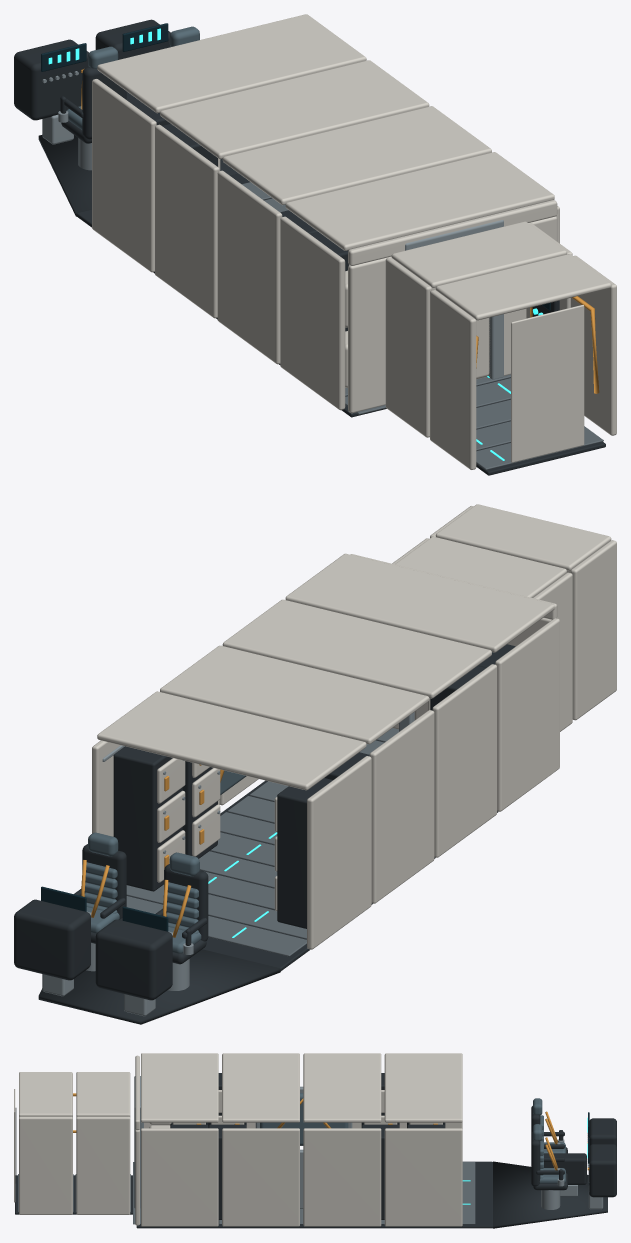
The model's file is spacecraft-interior-lod0.glb.
The picture shows the model from 3 angles, top to bottom: view 1: azimuth 30°, elevation 25°; view 2: azimuth 150°, elevation 25°; view 3: azimuth 270°, elevation 25°; orthographic projection. The views are drawn at different scales.
Visible parts, largest first — view 1: Ceiling_Interior_Ceramic, Walls_Interior_Ceramic, Furniture_Interior_Graphite, Door_Outer_Liner, Furniture_Interior_Ceramic, Furniture_Interior_Floor, Furniture_Interior_Titanium, Furniture_Interior_Display, Furniture_Interior_Cushion, Door_Inner, Furniture_Interior_Amber; view 2: Ceiling_Interior_Ceramic, Walls_Interior_Ceramic, Furniture_Interior_Graphite, Furniture_Interior_Floor, Furniture_Interior_Ceramic, Furniture_Interior_Cushion, Furniture_Interior_Titanium, Furniture_Interior_Display, Furniture_Interior_Amber; view 3: Walls_Interior_Ceramic, Ceiling_Interior_Ceramic, Furniture_Interior_Graphite, Furniture_Interior_Titanium, Furniture_Interior_Cushion, Furniture_Interior_Ceramic, Furniture_Interior_Floor, Furniture_Interior_Amber.
Boxes of the visible parts, bbox=[...] form: Ceiling_Interior_Ceramic: bbox=[97, 14, 611, 320]; Walls_Interior_Ceramic: bbox=[92, 79, 616, 469]; Furniture_Interior_Graphite: bbox=[14, 19, 605, 475]; Door_Outer_Liner: bbox=[511, 305, 584, 462]; Furniture_Interior_Ceramic: bbox=[218, 158, 557, 413]; Furniture_Interior_Floor: bbox=[242, 182, 603, 469]; Furniture_Interior_Titanium: bbox=[42, 71, 503, 379]; Furniture_Interior_Display: bbox=[41, 23, 550, 310]; Furniture_Interior_Cushion: bbox=[66, 26, 199, 129]; Door_Inner: bbox=[432, 287, 489, 379]; Furniture_Interior_Amber: bbox=[81, 68, 599, 393]; Ceiling_Interior_Ceramic: bbox=[97, 504, 611, 790]; Walls_Interior_Ceramic: bbox=[92, 506, 616, 949]; Furniture_Interior_Graphite: bbox=[14, 644, 515, 1024]; Furniture_Interior_Floor: bbox=[126, 728, 398, 956]; Furniture_Interior_Ceramic: bbox=[157, 554, 557, 911]; Furniture_Interior_Cushion: bbox=[84, 770, 246, 953]; Furniture_Interior_Titanium: bbox=[42, 712, 414, 1016]; Furniture_Interior_Display: bbox=[41, 886, 168, 931]; Furniture_Interior_Amber: bbox=[81, 764, 224, 937]; Walls_Interior_Ceramic: bbox=[19, 1116, 462, 1226]; Ceiling_Interior_Ceramic: bbox=[19, 1053, 462, 1122]; Furniture_Interior_Graphite: bbox=[15, 1073, 616, 1228]; Furniture_Interior_Titanium: bbox=[134, 1076, 603, 1209]; Furniture_Interior_Cushion: bbox=[260, 1093, 565, 1183]; Furniture_Interior_Ceramic: bbox=[135, 1055, 442, 1225]; Furniture_Interior_Floor: bbox=[18, 1162, 475, 1224]; Furniture_Interior_Amber: bbox=[73, 1093, 589, 1170].
Bounding box in the file's own units: 3.46 × 2.55 × 12.61.
